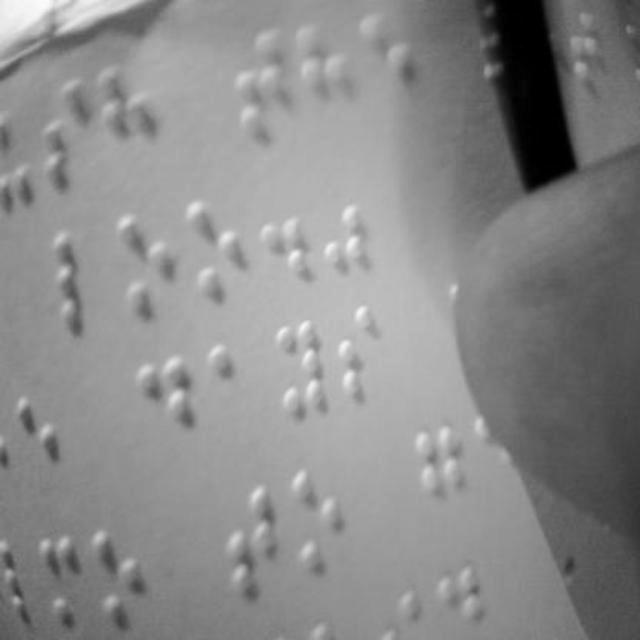braiile: (88, 524, 156, 640), (360, 9, 424, 127), (227, 470, 283, 602), (96, 60, 158, 178), (136, 346, 200, 459), (270, 311, 334, 423), (290, 465, 352, 577), (235, 32, 293, 146), (14, 387, 74, 497), (118, 212, 178, 322), (34, 78, 90, 194), (50, 226, 110, 334), (296, 19, 352, 131), (336, 298, 390, 410), (412, 418, 468, 526), (182, 195, 238, 302), (207, 335, 257, 439)
